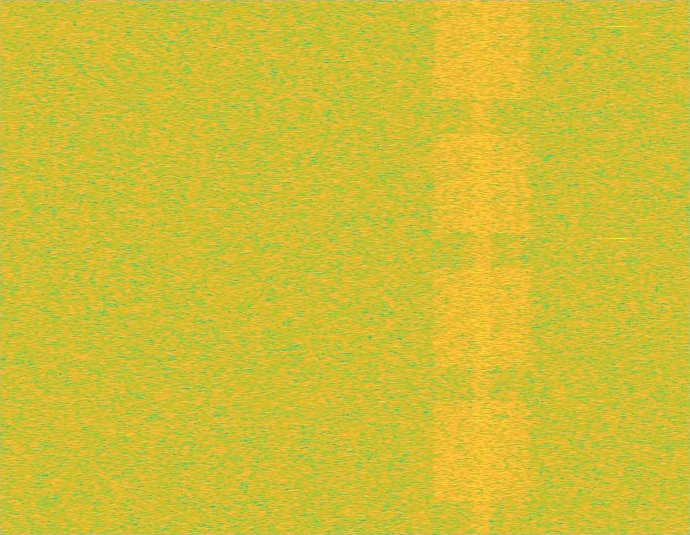5G: (430, 0, 534, 534)
DSSS: (470, 0, 494, 534)
Radar: (611, 0, 625, 534)
